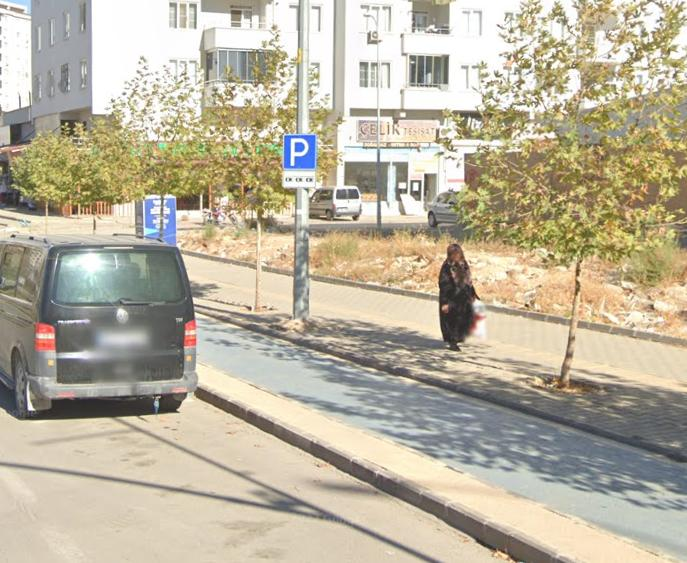park: (281, 132, 318, 191)
